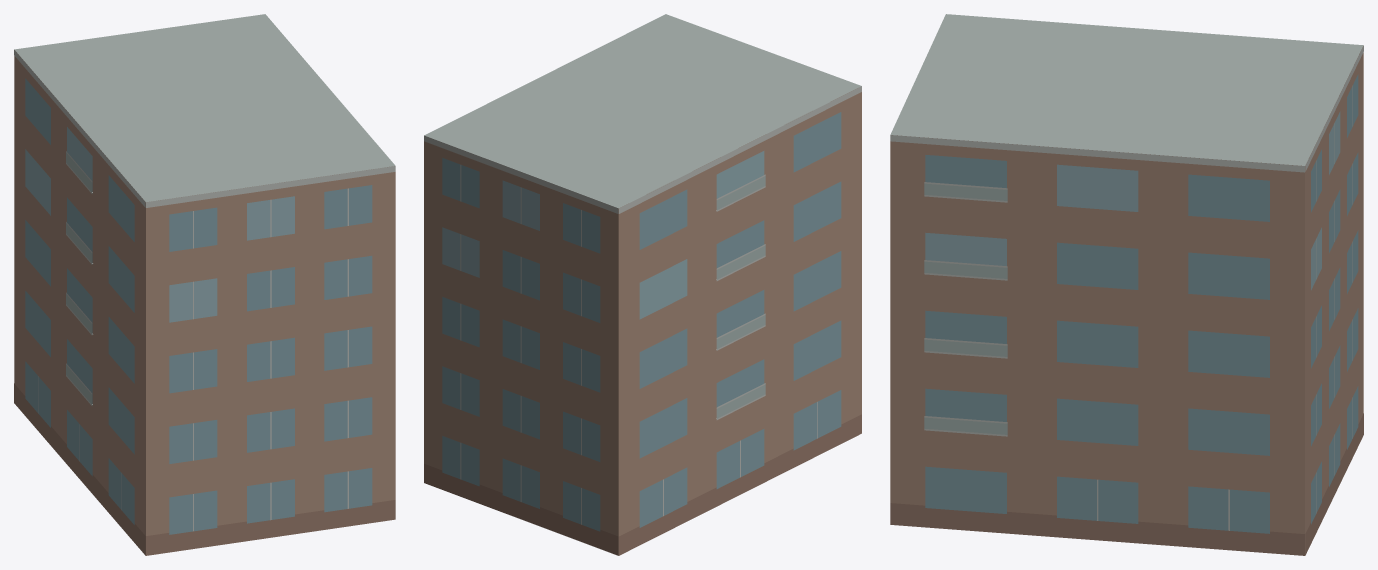
Rendered from survey-upis-32893393.glb.
3 views of the same model, side by side, from view 1: azimuth 30°, elevation 25°; view 2: azimuth 150°, elevation 25°; view 3: azimuth 270°, elevation 25° (orthographic). The views are drawn at different scales.
Parts seen in each view (by area): view 1: survey-upis-32893393.tmp; view 2: survey-upis-32893393.tmp; view 3: survey-upis-32893393.tmp.
Boxes of the visible parts, x1,y1,x2,y2 form: survey-upis-32893393.tmp: [14, 14, 395, 555]; survey-upis-32893393.tmp: [424, 14, 861, 555]; survey-upis-32893393.tmp: [890, 14, 1363, 555].
Bounding box in the file's own units: 12.22 × 14.6 × 16.08.
